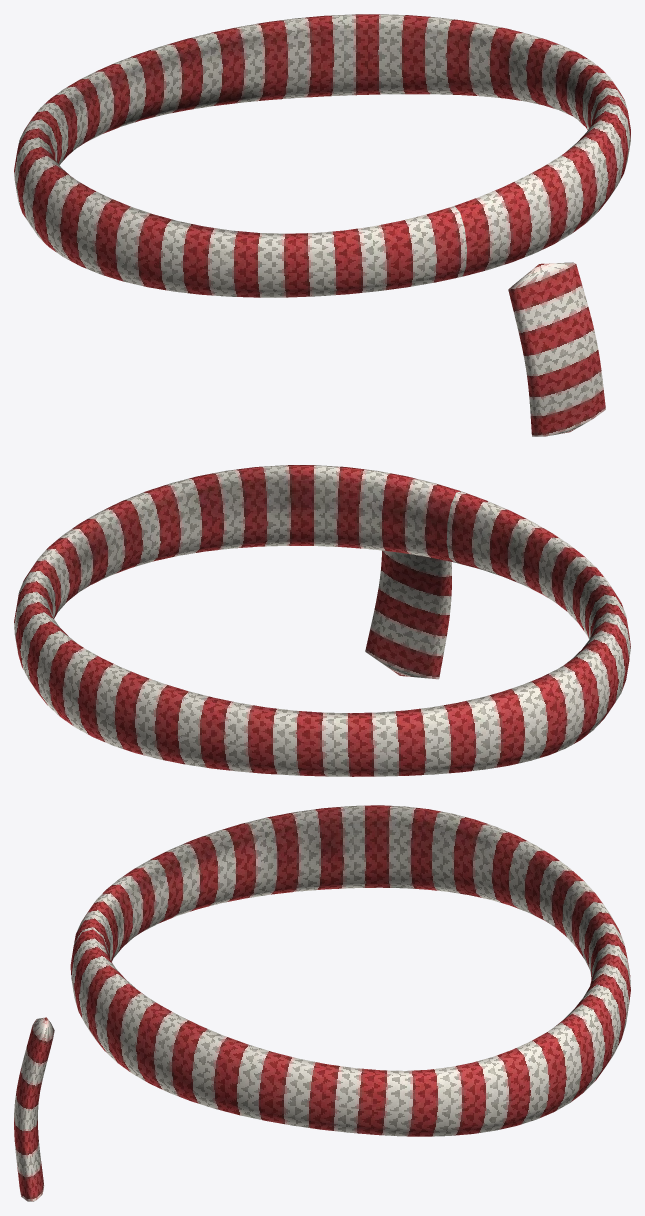
File: candy_scarf.glb
The picture shows the model from 3 angles, top to bottom: view 1: azimuth 30°, elevation 25°; view 2: azimuth 150°, elevation 25°; view 3: azimuth 270°, elevation 25°; orthographic projection.
Visible parts, largest first — view 1: candy_scarf_wrap, candy_scarf_end; view 2: candy_scarf_wrap, candy_scarf_end; view 3: candy_scarf_wrap, candy_scarf_end.
Boxes of the visible parts, x1,y1,x2,y2 form: candy_scarf_wrap: [14, 14, 630, 297]; candy_scarf_end: [508, 262, 605, 436]; candy_scarf_wrap: [14, 465, 630, 776]; candy_scarf_end: [365, 550, 451, 679]; candy_scarf_wrap: [70, 805, 630, 1136]; candy_scarf_end: [14, 1017, 54, 1201].
Bounding box in the file's own units: 24.8 × 10.03 × 23.62.
Materials: 1 (1 with a texture image).
